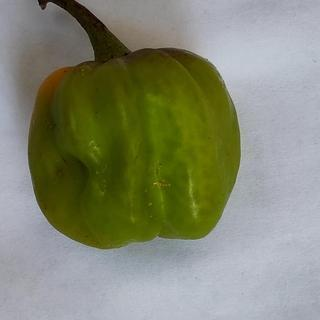Grade-B: (23, 43, 245, 251)
